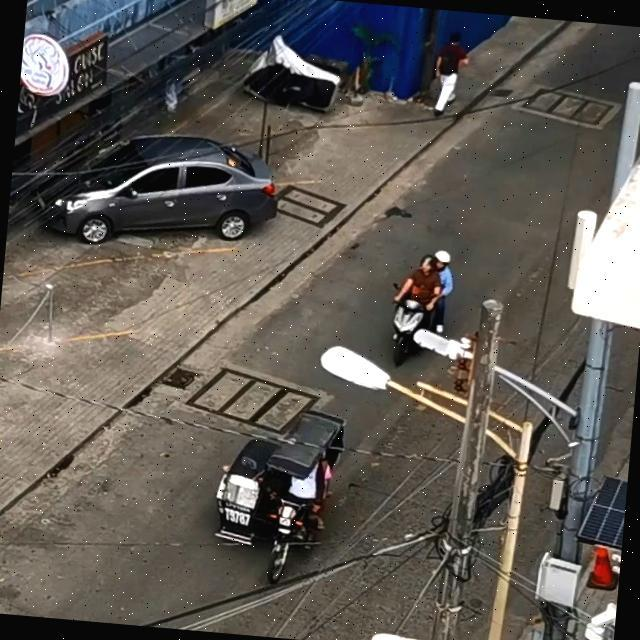Tricycle: (194, 388, 364, 599)
